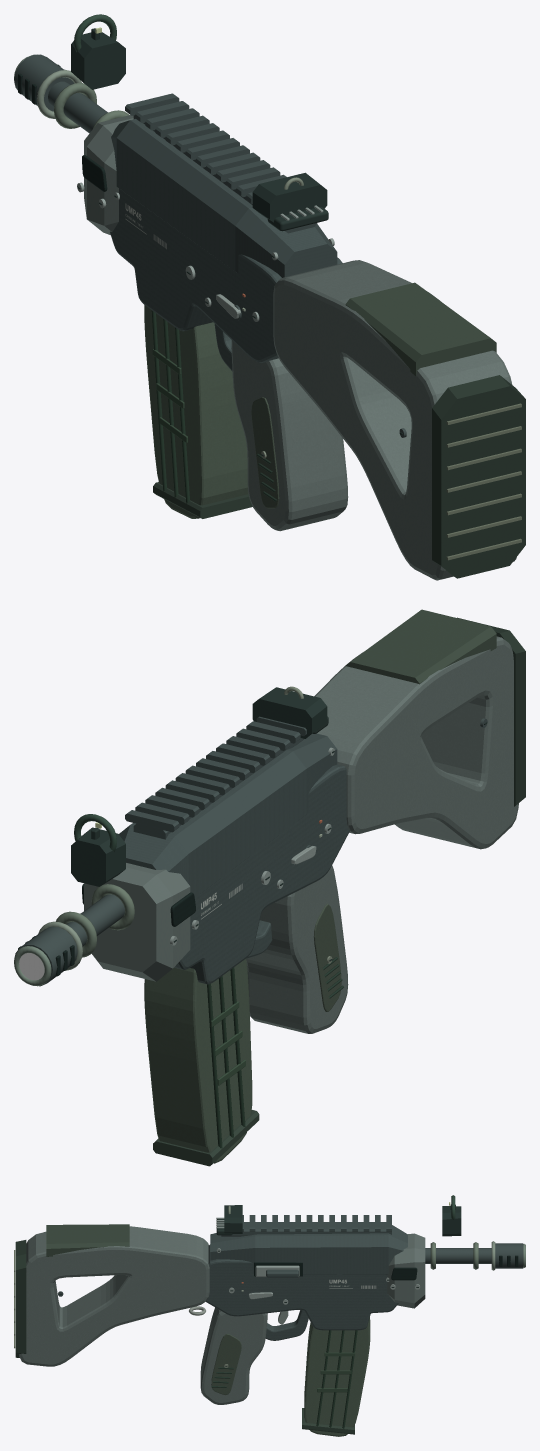
File: ump45.glb
The picture shows the model from 3 angles, top to bottom: view 1: azimuth 30°, elevation 25°; view 2: azimuth 150°, elevation 25°; view 3: azimuth 270°, elevation 25°; orthographic projection. The views are drawn at different scales.
Visible parts, largest first — view 1: ump45, magazine; view 2: ump45, magazine; view 3: ump45, magazine, bolt.
Part boxes in pixels (x1,y1,x2,y2): ump45: (14, 14, 525, 580); magazine: (144, 305, 252, 518); ump45: (14, 609, 525, 1033); magazine: (144, 958, 259, 1166); ump45: (14, 1195, 525, 1404); magazine: (302, 1317, 370, 1436); bolt: (255, 1265, 299, 1277).
Bounding box in the file's own units: 0.1552 × 0.5888 × 1.17.
Materials: 29 (16 with a texture image).
